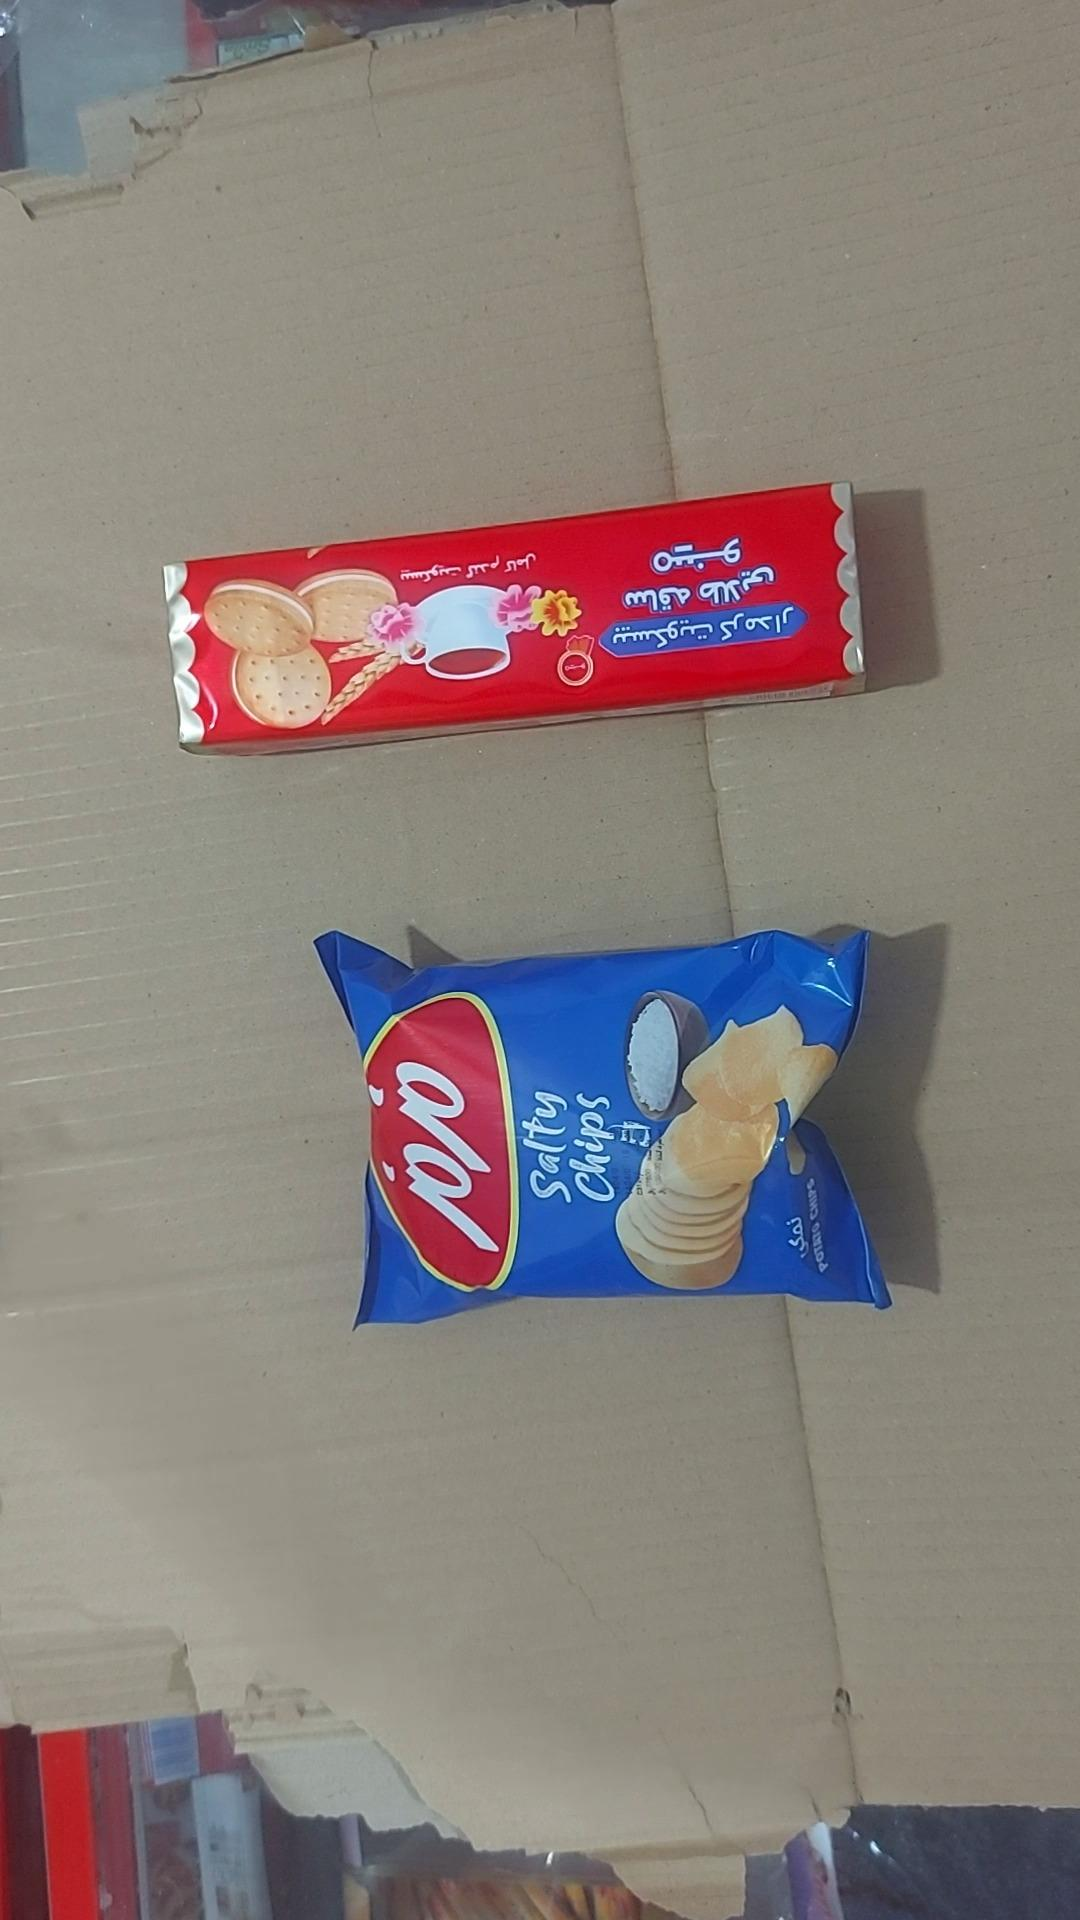Maz Maz salty chips: (314, 931, 895, 1327)
Minoo cream biscuit: (160, 483, 866, 760)
